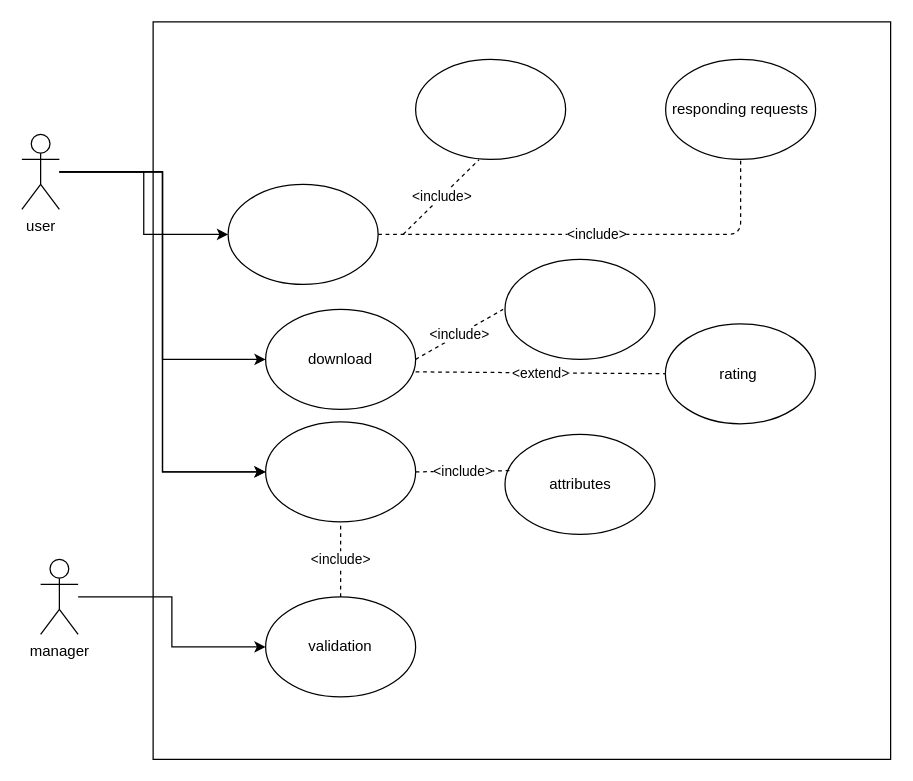
This 913x781 diagram has some shape labels left out. Here are the shapes that lost their labels. From the top down, the box of each, then its label:
(414, 58, 566, 159): posting requests
(227, 183, 378, 284): requests
(504, 258, 655, 359): search
(264, 421, 416, 522): uploading
